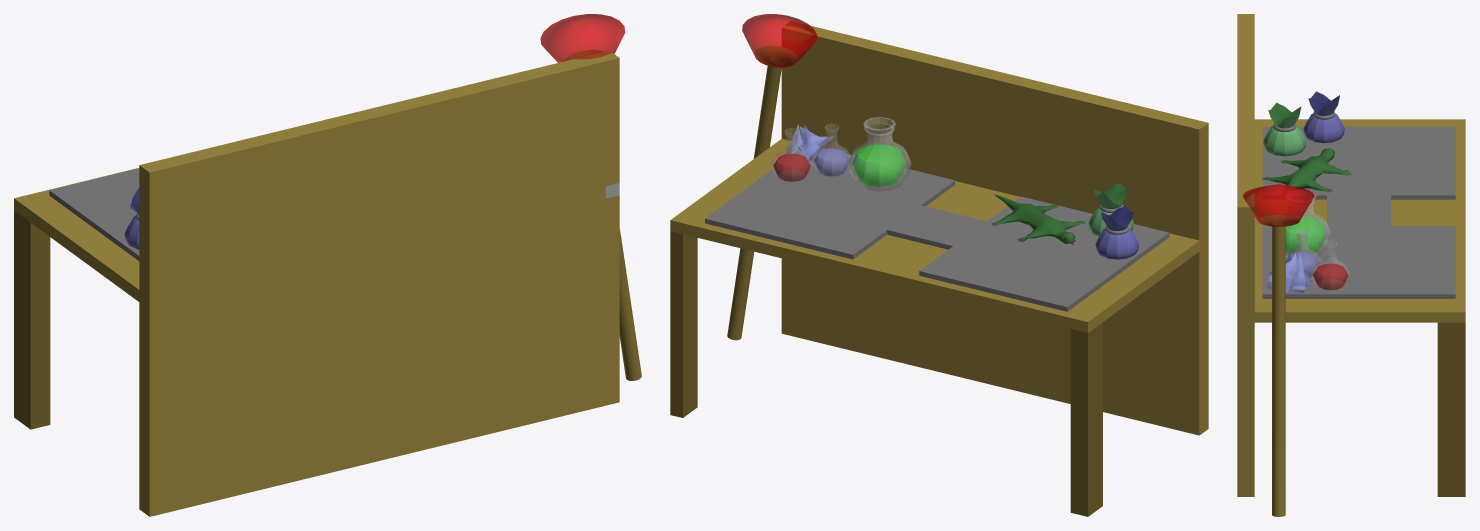
The model's file is Alchemy Table.fbx.
3 renders of one model, left to right at view 1: azimuth 30°, elevation 25°; view 2: azimuth 150°, elevation 25°; view 3: azimuth 270°, elevation 25°, orthographic. The views are drawn at different scales.
Visible parts, largest first — view 1: pCube4; view 2: pCube4; view 3: pCube4.
Boxes of the visible parts, box(x1,y1,x2,y2) form: pCube4: box(14, 14, 641, 516); pCube4: box(670, 14, 1208, 516); pCube4: box(1237, 14, 1465, 516).
Bounding box in the file's own units: 21.95 × 14.92 × 10.
